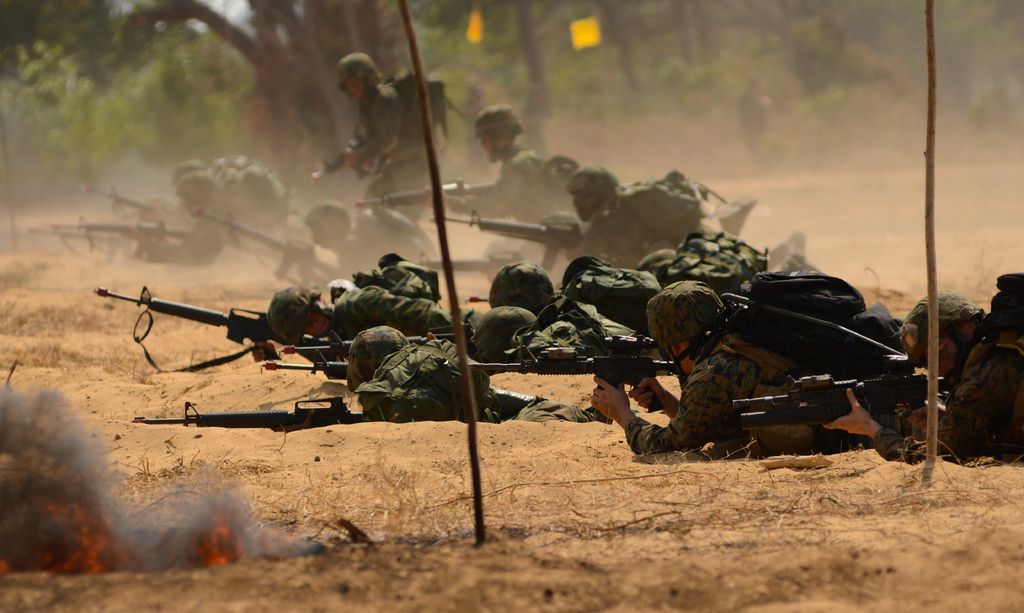Person: (589, 280, 926, 455), (821, 272, 1024, 473), (267, 324, 639, 432), (565, 165, 806, 271), (423, 105, 580, 260), (312, 52, 441, 226), (249, 283, 483, 368), (118, 171, 299, 266), (291, 201, 424, 282)
